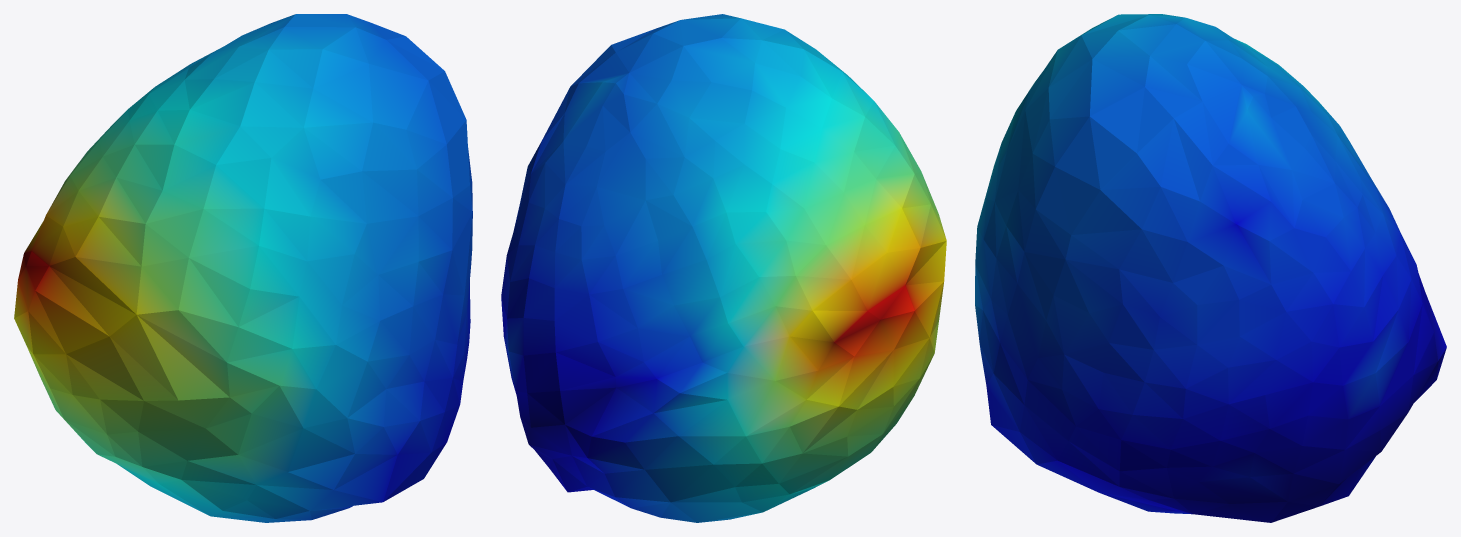
Rendered from heartwithColor80.obj.
3 views of the same model, side by side, from view 1: azimuth 30°, elevation 25°; view 2: azimuth 150°, elevation 25°; view 3: azimuth 270°, elevation 25° (orthographic). The views are drawn at different scales.
Size of the model in its own units: 71.7 by 81.16 by 72.94.
